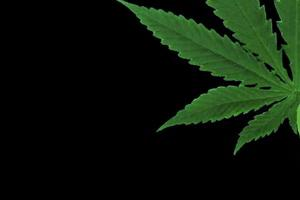cannabis: (93, 0, 299, 194)
